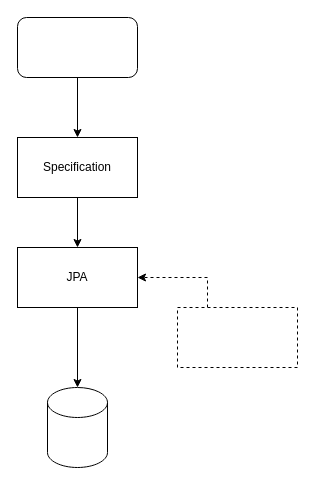
Image size: 315x485. Some labels were removed from this diagram. Each missing label, with the box of its shape:
App: (16, 16, 138, 78)
Hibernate: (176, 306, 298, 368)
